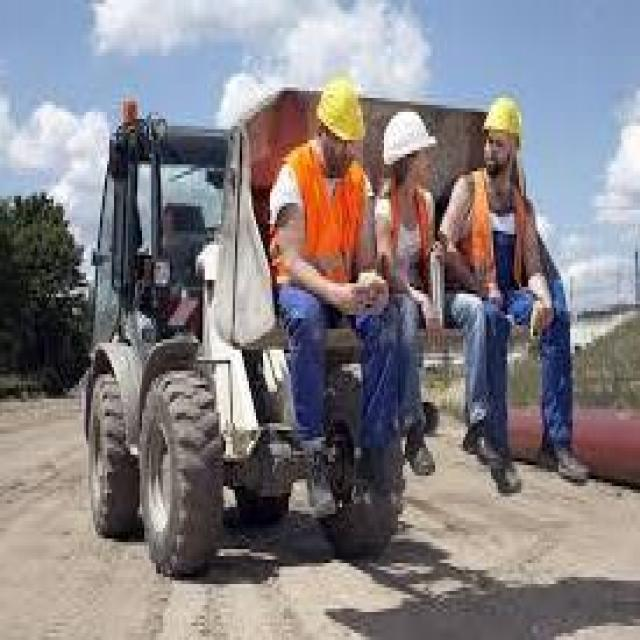Reflective-Jacket: (270, 147, 377, 339), (449, 164, 547, 315)
Safety-Helmet: (310, 63, 374, 154), (377, 101, 440, 175), (474, 84, 530, 150)
